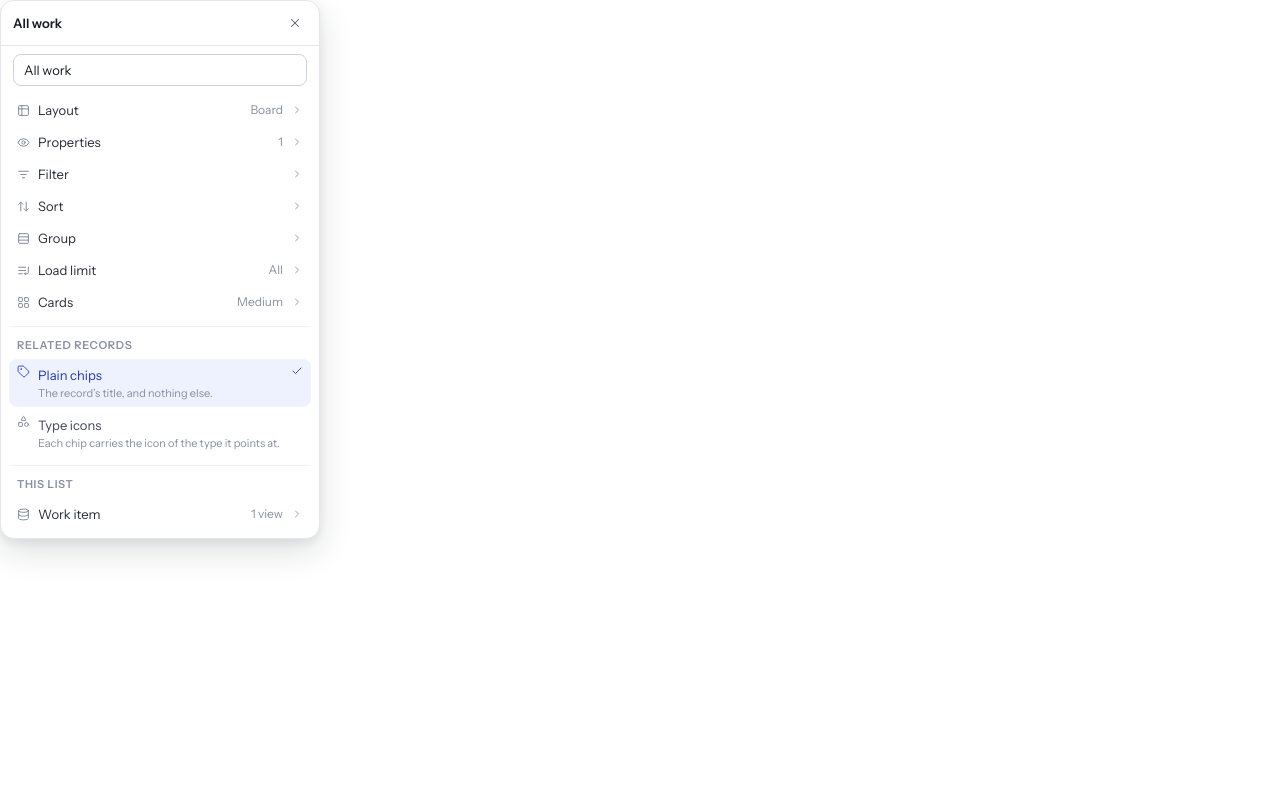
Test: card settings (M16.29) › offers Color columns on the board, whose groups ARE columns
Click the button with test id "view-settings-cards" at [56, 302], box [9,286,311,318]
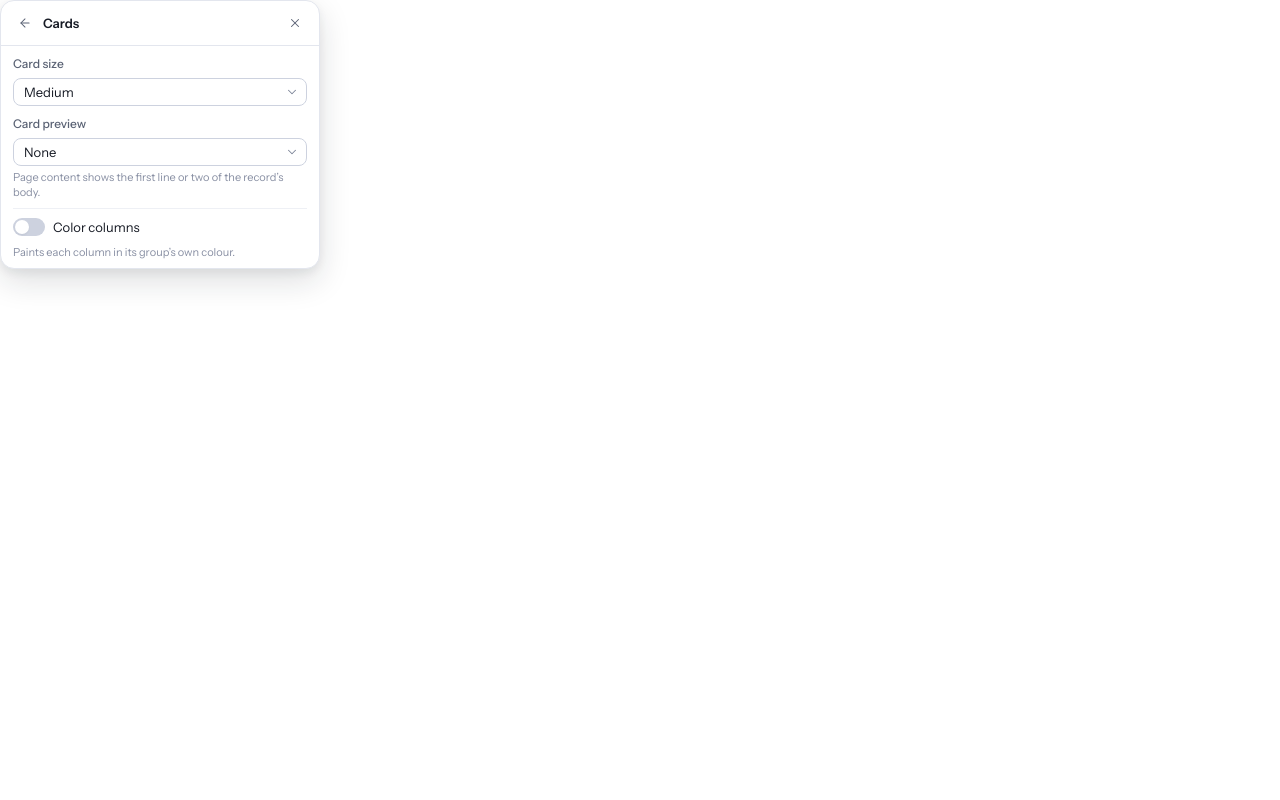
Check: the switch labelled "Color columns" is shown, box [13,217,140,237]
